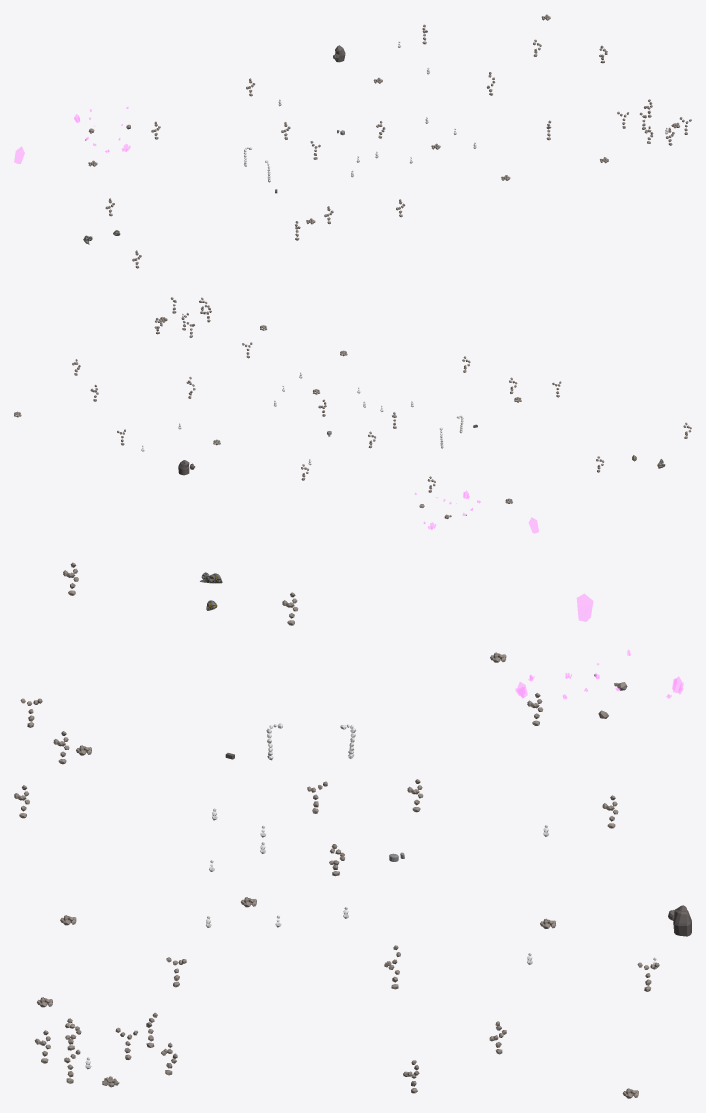
The model's file is colliders2.fbx.
3 renders of one model, top to bottom at view 1: azimuth 30°, elevation 25°; view 2: azimuth 150°, elevation 25°; view 3: azimuth 270°, elevation 25°, orthographic. The views are drawn at different scales.
Parts seen in each view (by area): view 1: colliders.001; view 2: colliders.001; view 3: colliders.001.
Part boxes in pixels (<box>): colliders.001: <box>14,14,691,268</box>; colliders.001: <box>14,297,691,533</box>; colliders.001: <box>14,562,691,1098</box>.
Size of the model in its own units: 15407 by 712 by 8545.
